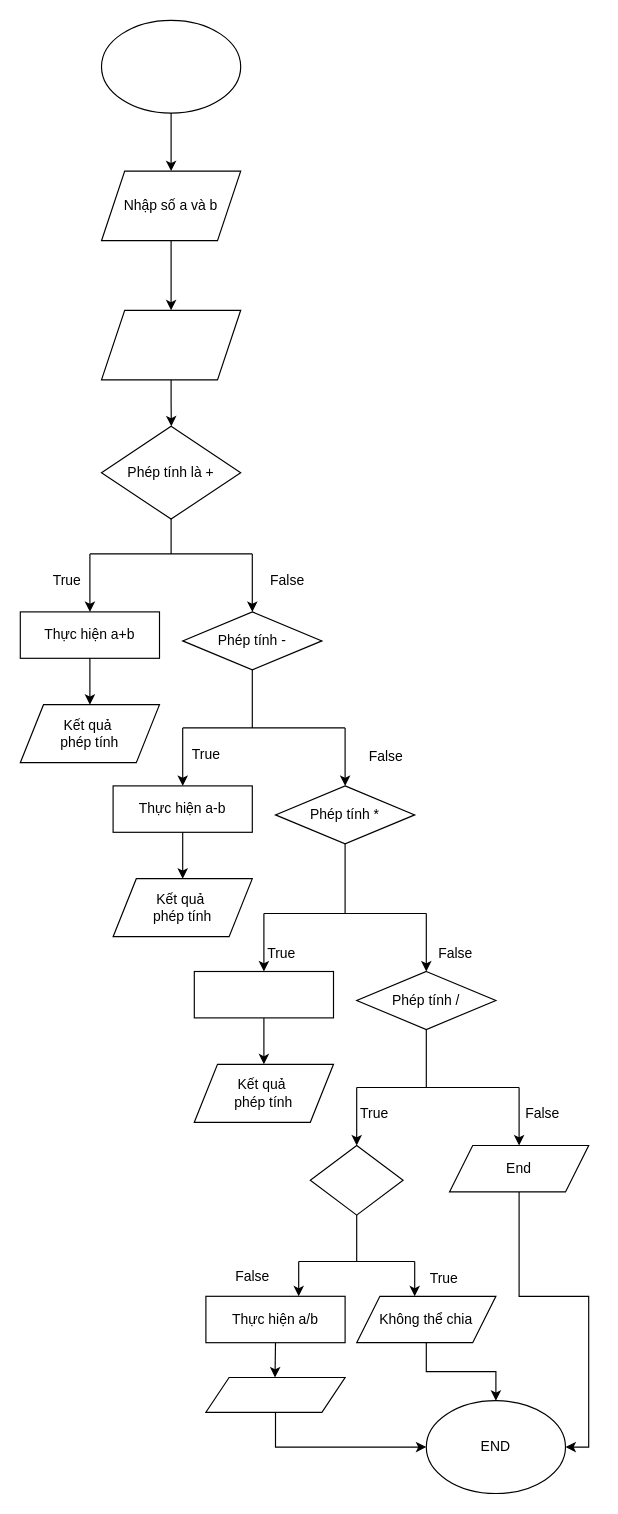
This 618x1514 diagram has some shape labels left out. The centre of each missing label's shape, as x and y in pixels:
"b = 0 ?" goes at (356,1179).
"Kết quả" goes at (275,1394).
"Nhập phép tính (+,-,*,/)" goes at (170,344).
"START" goes at (170,66).
"Thực hiện a*b" goes at (263,994).
